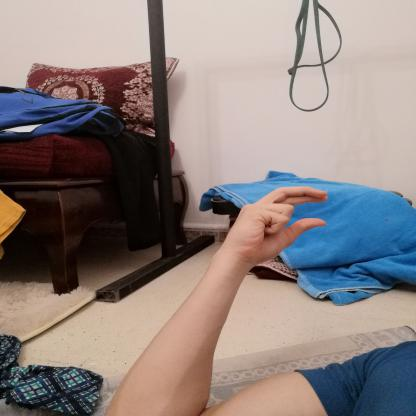DHELL: (216, 179, 338, 274)
